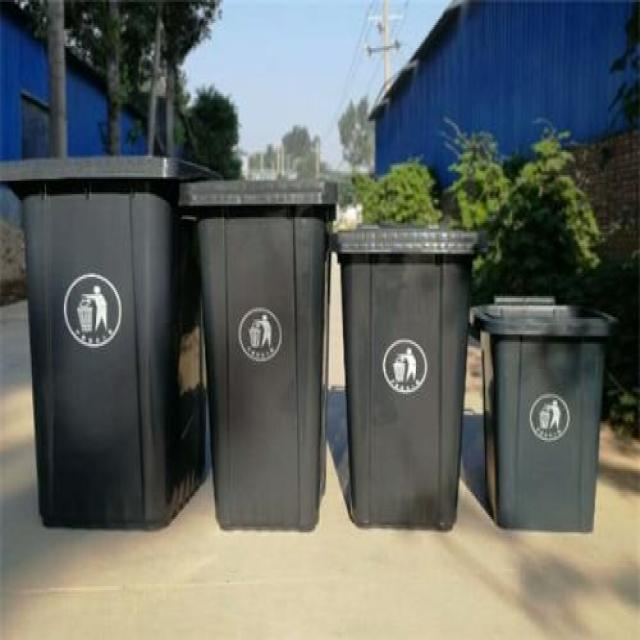garbage_bin: (0, 154, 220, 532), (177, 177, 335, 532), (330, 225, 475, 526), (470, 296, 616, 532)
